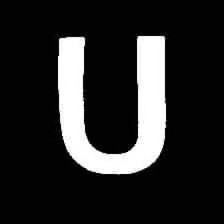LTR_U: (45, 20, 181, 182)
